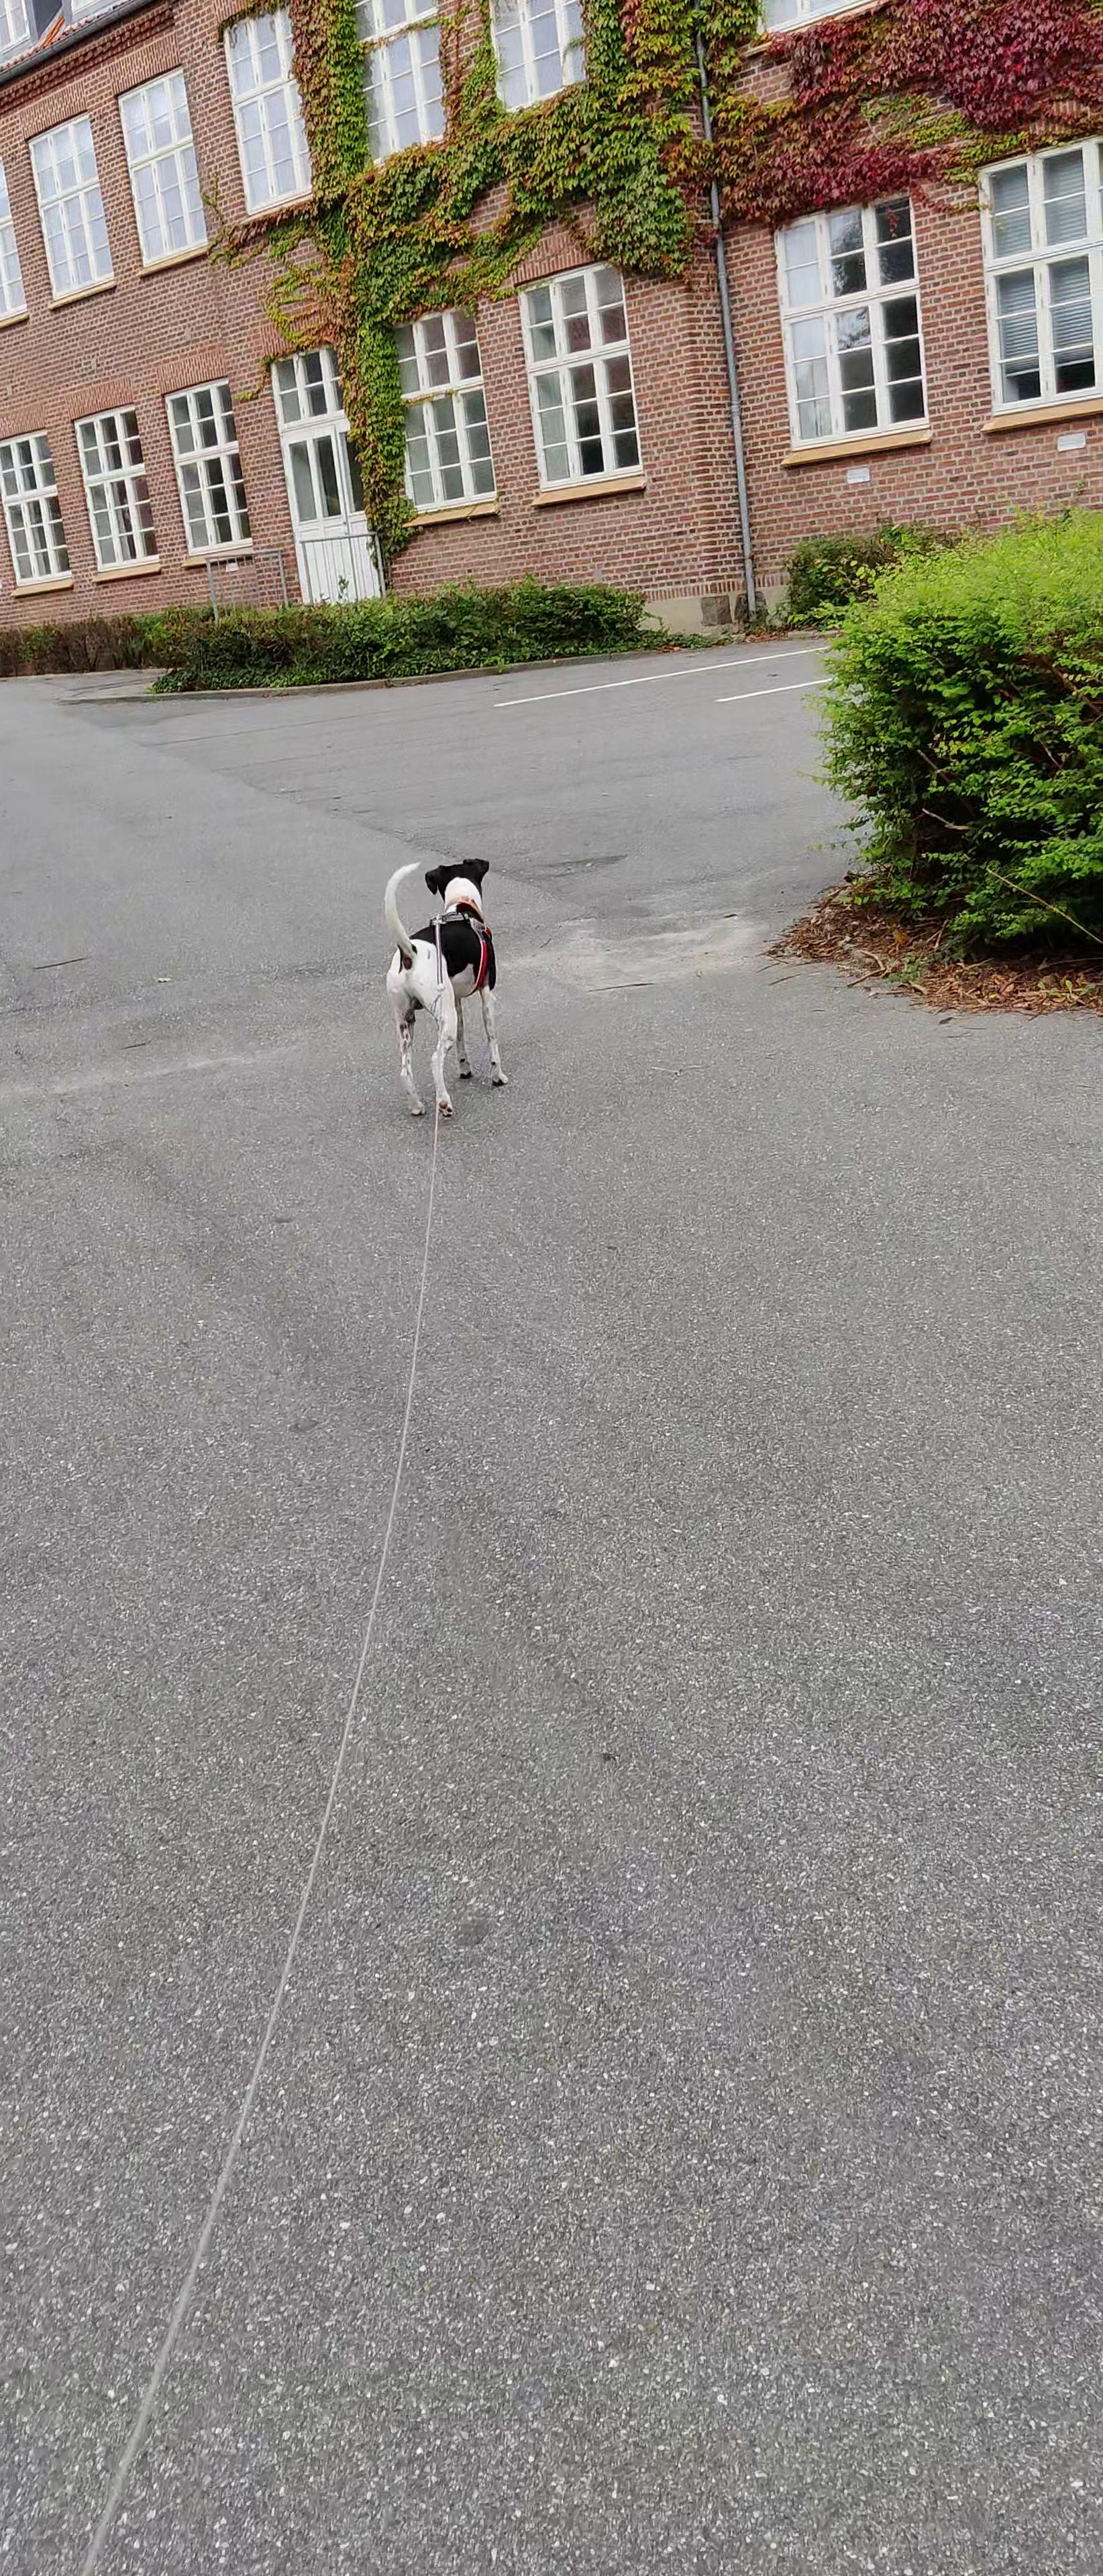Dog: (372, 854, 523, 1119)
